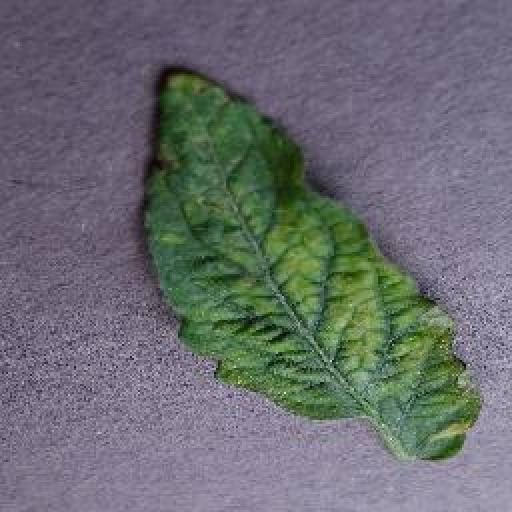disease_tomato: (140, 68, 486, 462)
